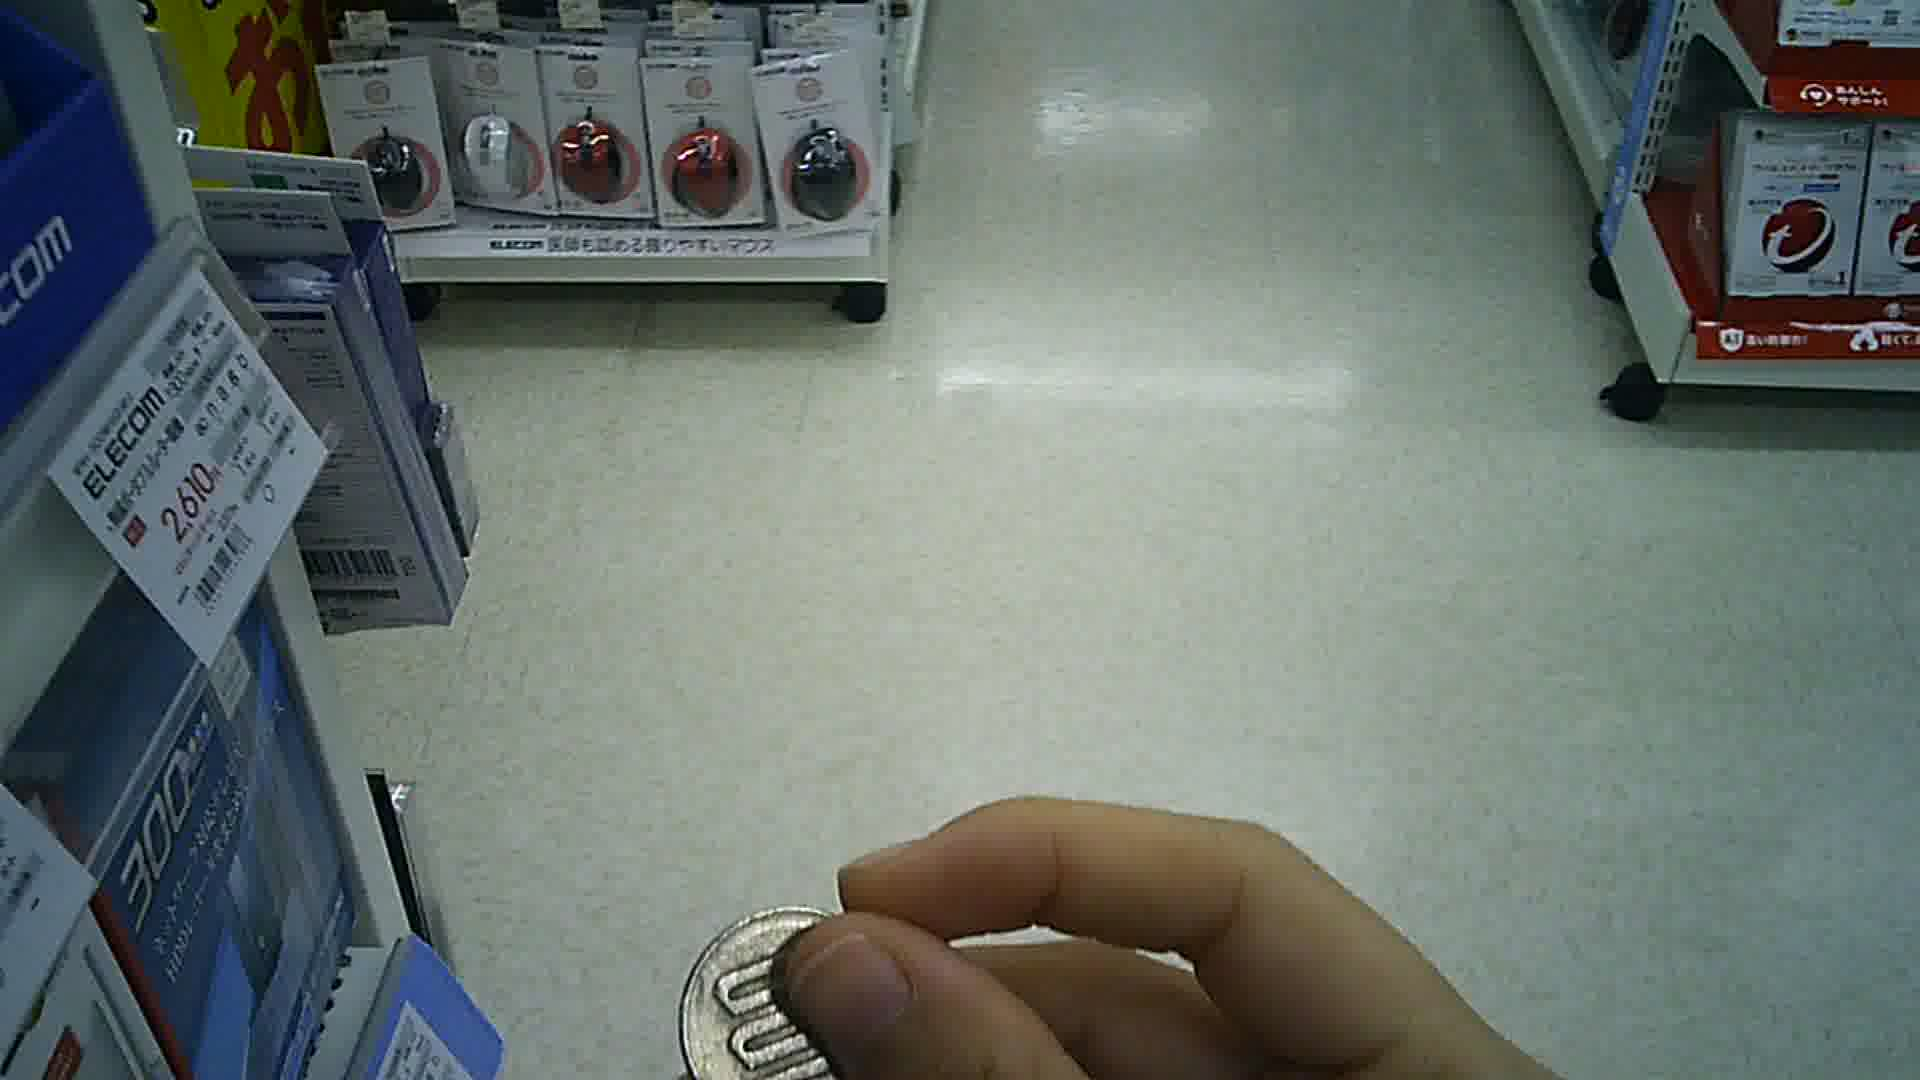100 Yen: (675, 909, 887, 1079)
